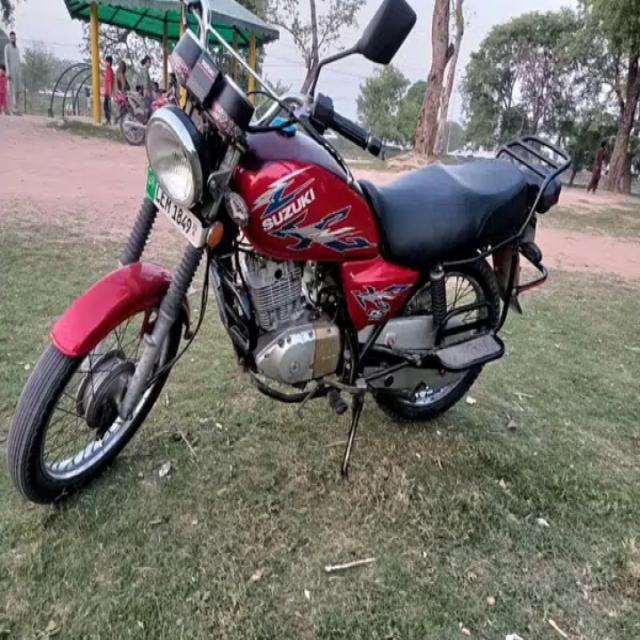Bike: (53, 0, 567, 499)
